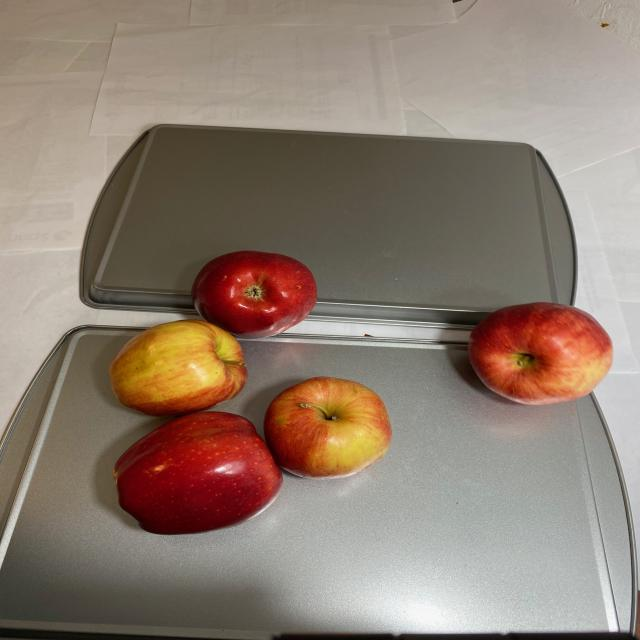apple: (103, 250, 396, 533), (460, 301, 613, 407)
